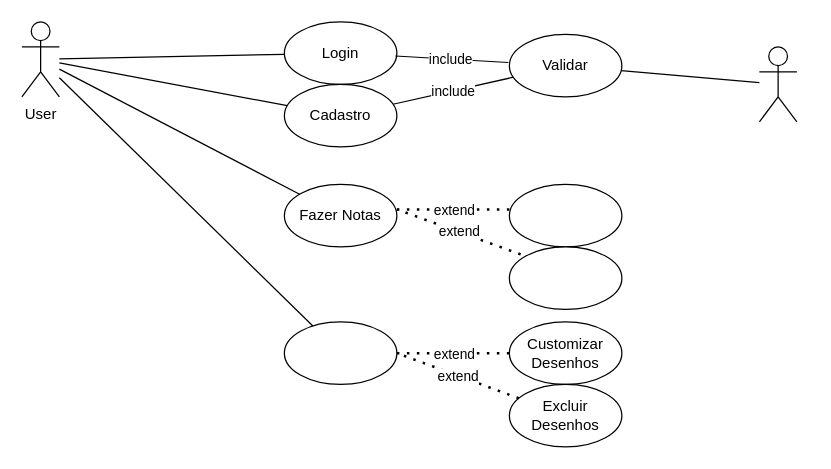
Some shapes in this 831 by 469 pixel diagram are drawn without their labels. Here are the shapes that lost their labels. From the top down, the centre of each, then its label:
At (x=777, y=84): "Validador".
At (x=565, y=215): "Customizar Notas".
At (x=565, y=277): "Excluir Notas".
At (x=340, y=352): "Fazer Desenhos".
